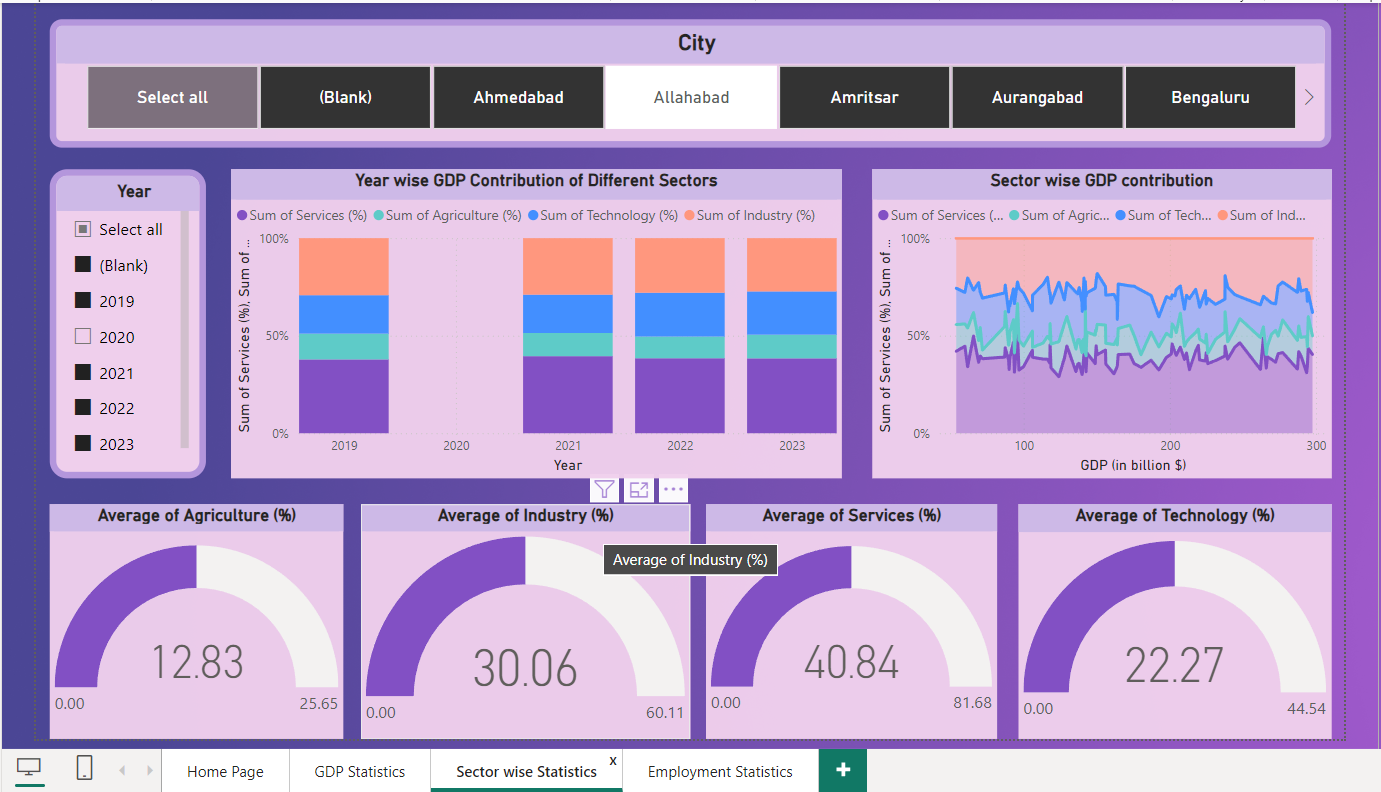

This screenshot's page, from the dashboard's own definition file:
{"tool":"powerbi","page":{"name":"Sector wise Statistics","canvas":[1280,720],"ordinal":2},"visuals":[{"type":"gauge","fields":{"Y":["Avg(Sheet1.Technology (%))"]},"box":[960.9,490.4,306.2,229.3],"z":0},{"type":"gauge","fields":{"Y":["Avg(Sheet1.Services (%))"]},"box":[656,490.4,284.9,229.3],"z":1000},{"type":"gauge","fields":{"Y":["Avg(Sheet1.Industry (%))"]},"box":[318.1,490.4,322.1,229.3],"z":2000},{"type":"hundredPercentStackedAreaChart","title":"Sector wise GDP contribution","fields":{"Y":["Sum(Sheet1.Services (%))","Sum(Sheet1.Agriculture (%))","Sum(Sheet1.Technology (%))","Sum(Sheet1.Industry (%))"],"Category":["Sheet1.GDP (in billion $)"]},"box":[817.7,163,449.3,302.2],"z":3000},{"type":"hundredPercentStackedColumnChart","title":"Year wise GDP Contribution of Different Sectors","fields":{"Category":["Sheet1.Year"],"Y":["Sum(Sheet1.Services (%))","Sum(Sheet1.Agriculture (%))","Sum(Sheet1.Technology (%))","Sum(Sheet1.Industry (%))"]},"box":[190.8,163,597.7,302.2],"z":4000},{"type":"gauge","fields":{"Y":["Avg(Sheet1.Agriculture (%))"]},"box":[13.3,490.4,287.6,229.3],"z":5000},{"type":"slicer","title":"Year","fields":{"Values":["Sheet1.Year"]},"box":[13.3,163,152.4,302.2],"z":6000},{"type":"slicer","title":"City","fields":{"Values":["Sheet1.City"]},"box":[13.3,15.9,1253.8,125.9],"z":7000}]}

Visuals, with their boxes in screenshot pixels (x1, y1, x2, y2):
gauge - Avg(Sheet1.Technology (%)): <region>1015, 503, 1329, 739</region>
gauge - Avg(Sheet1.Services (%)): <region>702, 503, 994, 739</region>
gauge - Avg(Sheet1.Industry (%)): <region>355, 503, 686, 739</region>
"Sector wise GDP contribution" hundredPercentStackedAreaChart: <region>868, 167, 1329, 477</region>
"Year wise GDP Contribution of Different Sectors" hundredPercentStackedColumnChart: <region>225, 167, 838, 477</region>
gauge - Avg(Sheet1.Agriculture (%)): <region>42, 503, 338, 739</region>
"Year" slicer: <region>42, 167, 199, 477</region>
"City" slicer: <region>42, 16, 1329, 146</region>
